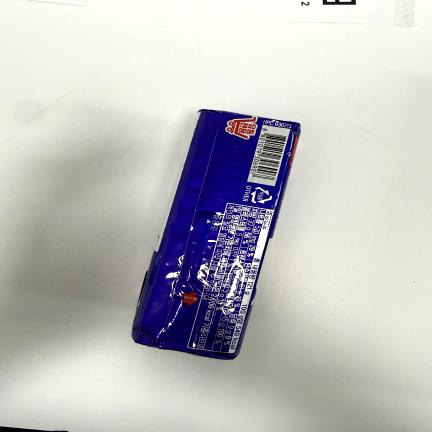cracker_ace: (132, 110, 301, 360)
